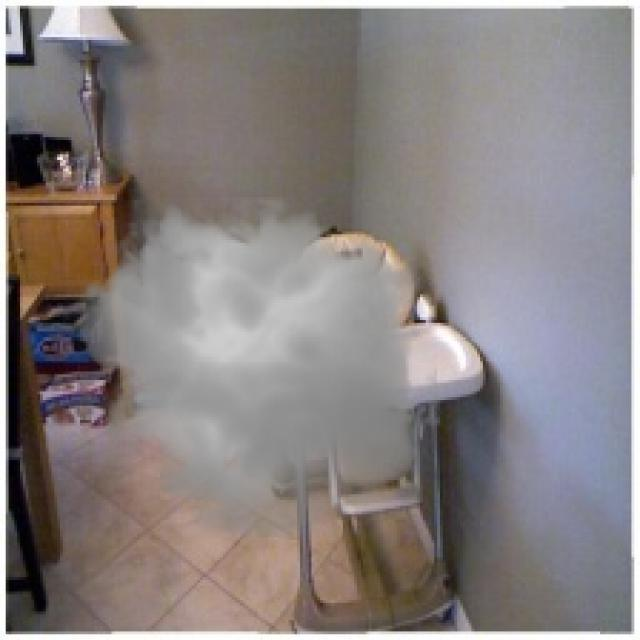Smoke: (62, 183, 438, 552)
